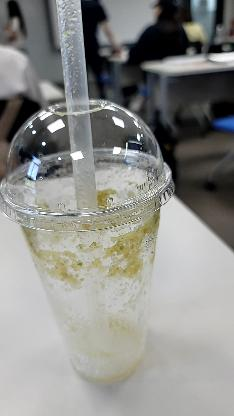Plastic Cup: (0, 98, 174, 386), (0, 97, 176, 231)
